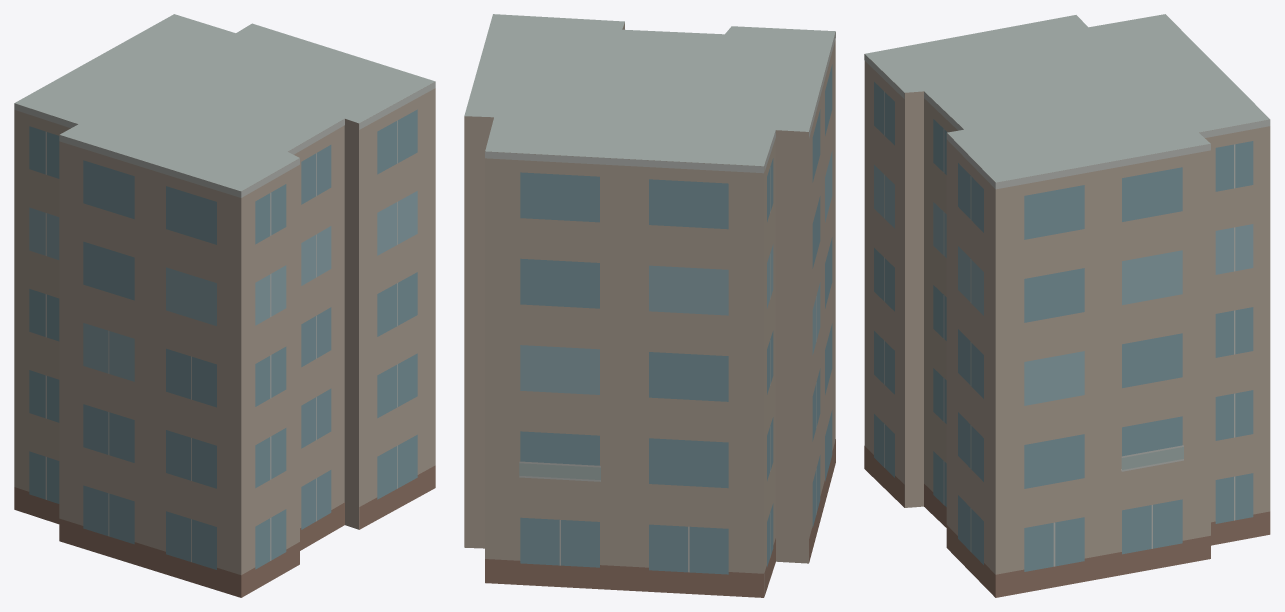
The model's file is survey-upis-32602334.glb.
3 renders of one model, left to right at view 1: azimuth 30°, elevation 25°; view 2: azimuth 150°, elevation 25°; view 3: azimuth 270°, elevation 25°, orthographic. The views are drawn at different scales.
Parts seen in each view (by area): view 1: survey-upis-32602334.tmp; view 2: survey-upis-32602334.tmp; view 3: survey-upis-32602334.tmp.
Part boxes in pixels (<box>): survey-upis-32602334.tmp: <box>14,14,435,597</box>; survey-upis-32602334.tmp: <box>464,14,835,597</box>; survey-upis-32602334.tmp: <box>864,14,1270,597</box>.
Size of the model in its own units: 13.16 by 15.1 by 13.38.
